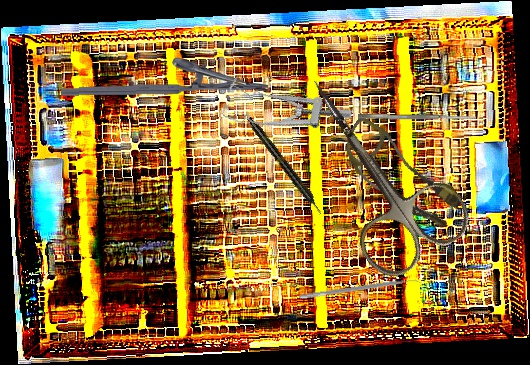Cannula: (327, 115, 472, 237)
Handpiece: (244, 115, 326, 217)
Iris Scissors: (269, 49, 479, 287)
Needle Holder: (60, 55, 269, 97)
Spatula Surgical: (298, 275, 424, 305), (357, 112, 477, 122)
Speculum: (217, 65, 355, 160)
